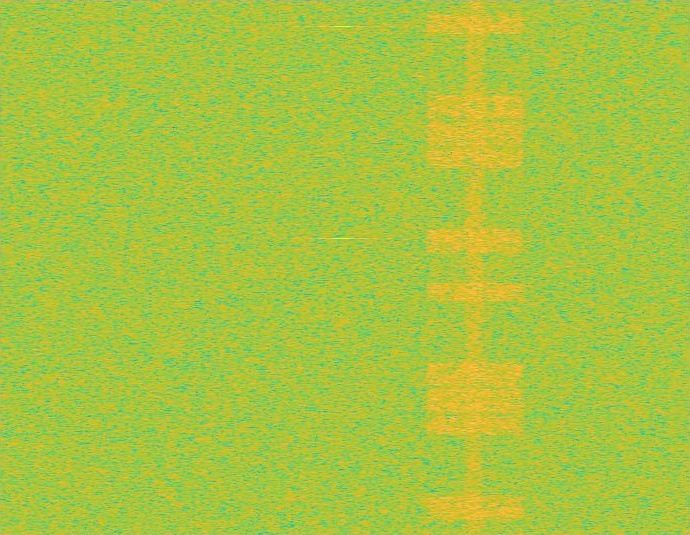DSSS: (463, 0, 487, 534)
LTE: (423, 0, 527, 534)
Radar: (336, 0, 349, 534)
